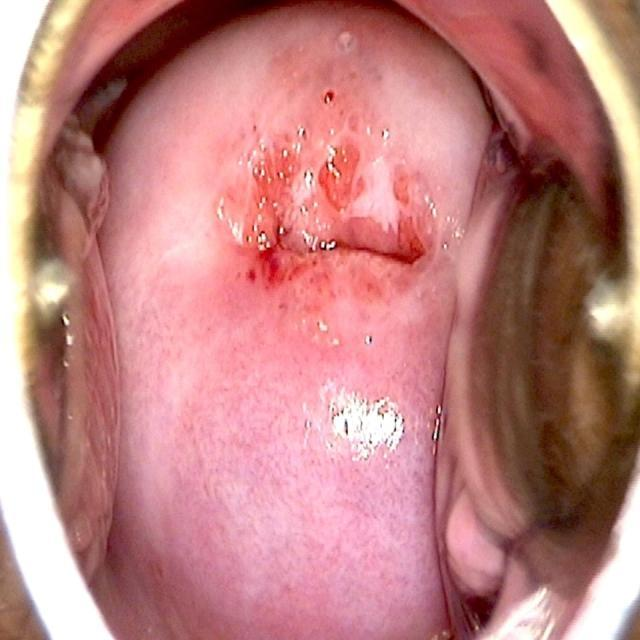cervical_lesion: (217, 16, 471, 494)
